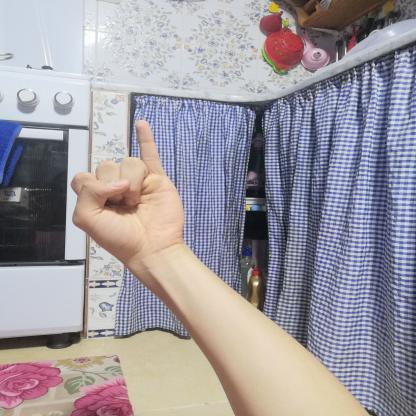MEEM: (57, 111, 198, 269)
